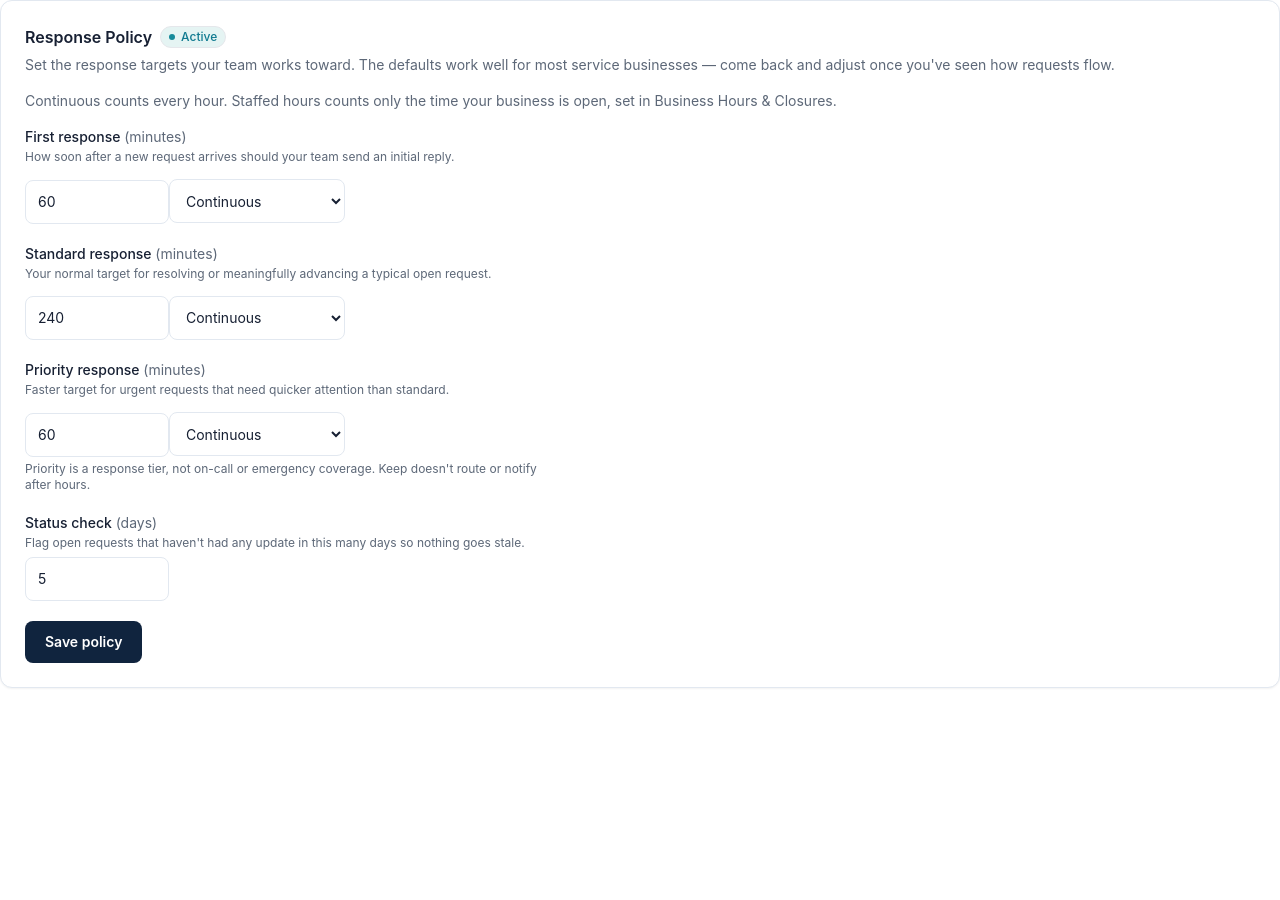
Test: PolicySection settingsVersion › on 409 shows recovery, keeps the draft, and does not retry
This screenshot has width=1280, height=900.
Expected: the button "Save policy" is shown, [25, 620, 142, 662]
Replace the text in the number field below "First response" with "30" at (97, 202), box [25, 180, 169, 224]
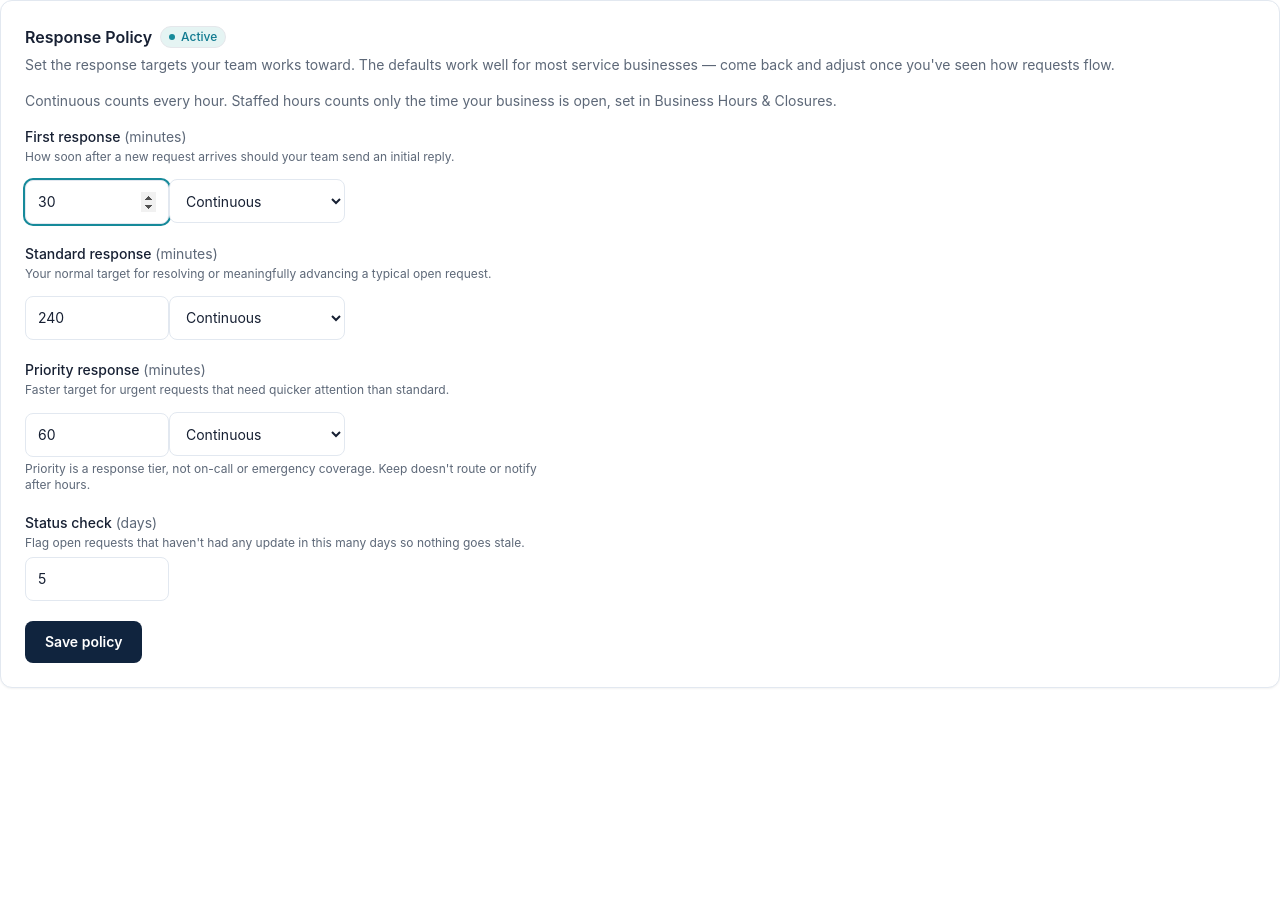
Click the button "Save policy" at (84, 642), box [25, 620, 142, 662]
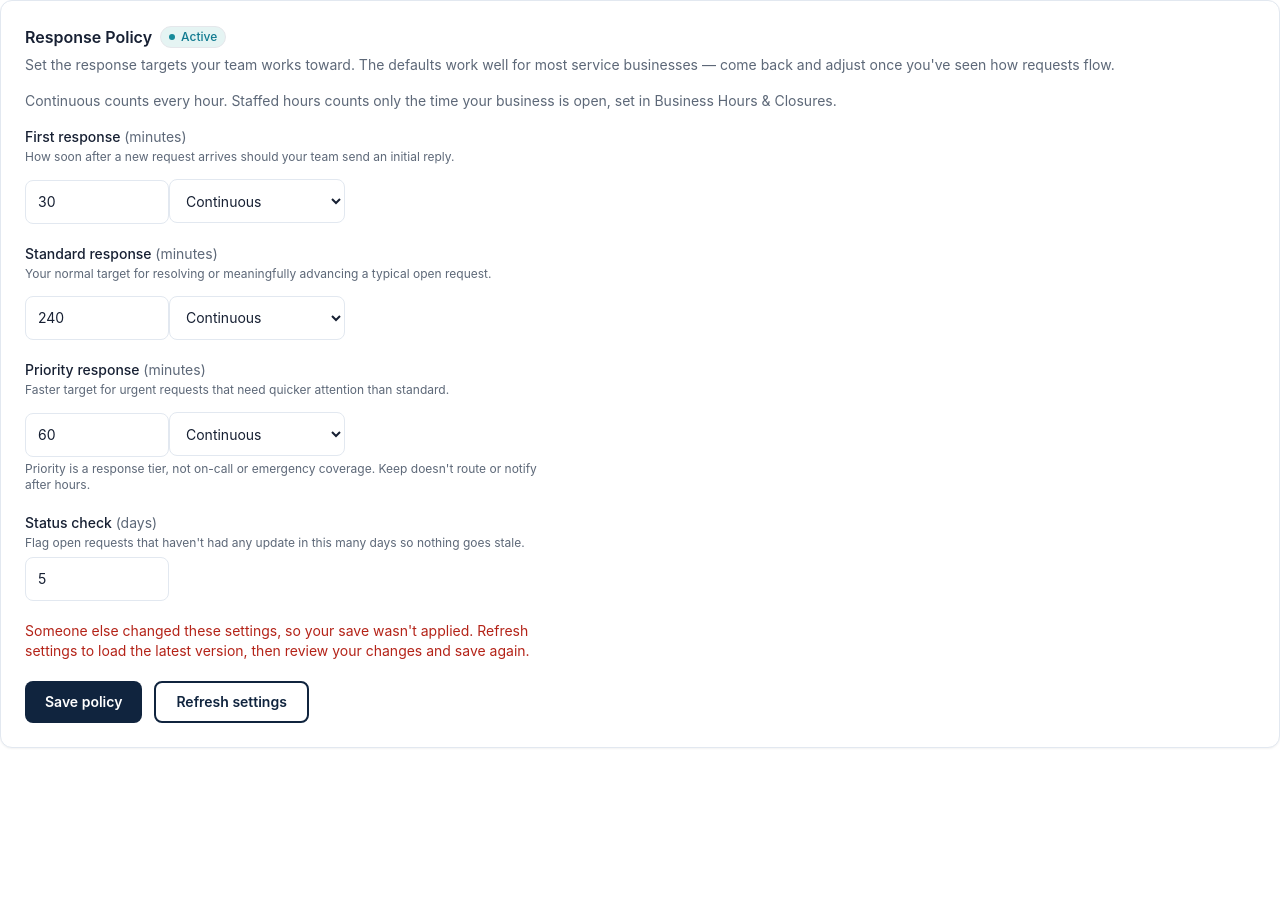
Expected: the text "Someone else changed these settings" is shown, [25, 622, 530, 658]
Expected: the button "Refresh settings" is shown, [154, 680, 309, 722]
